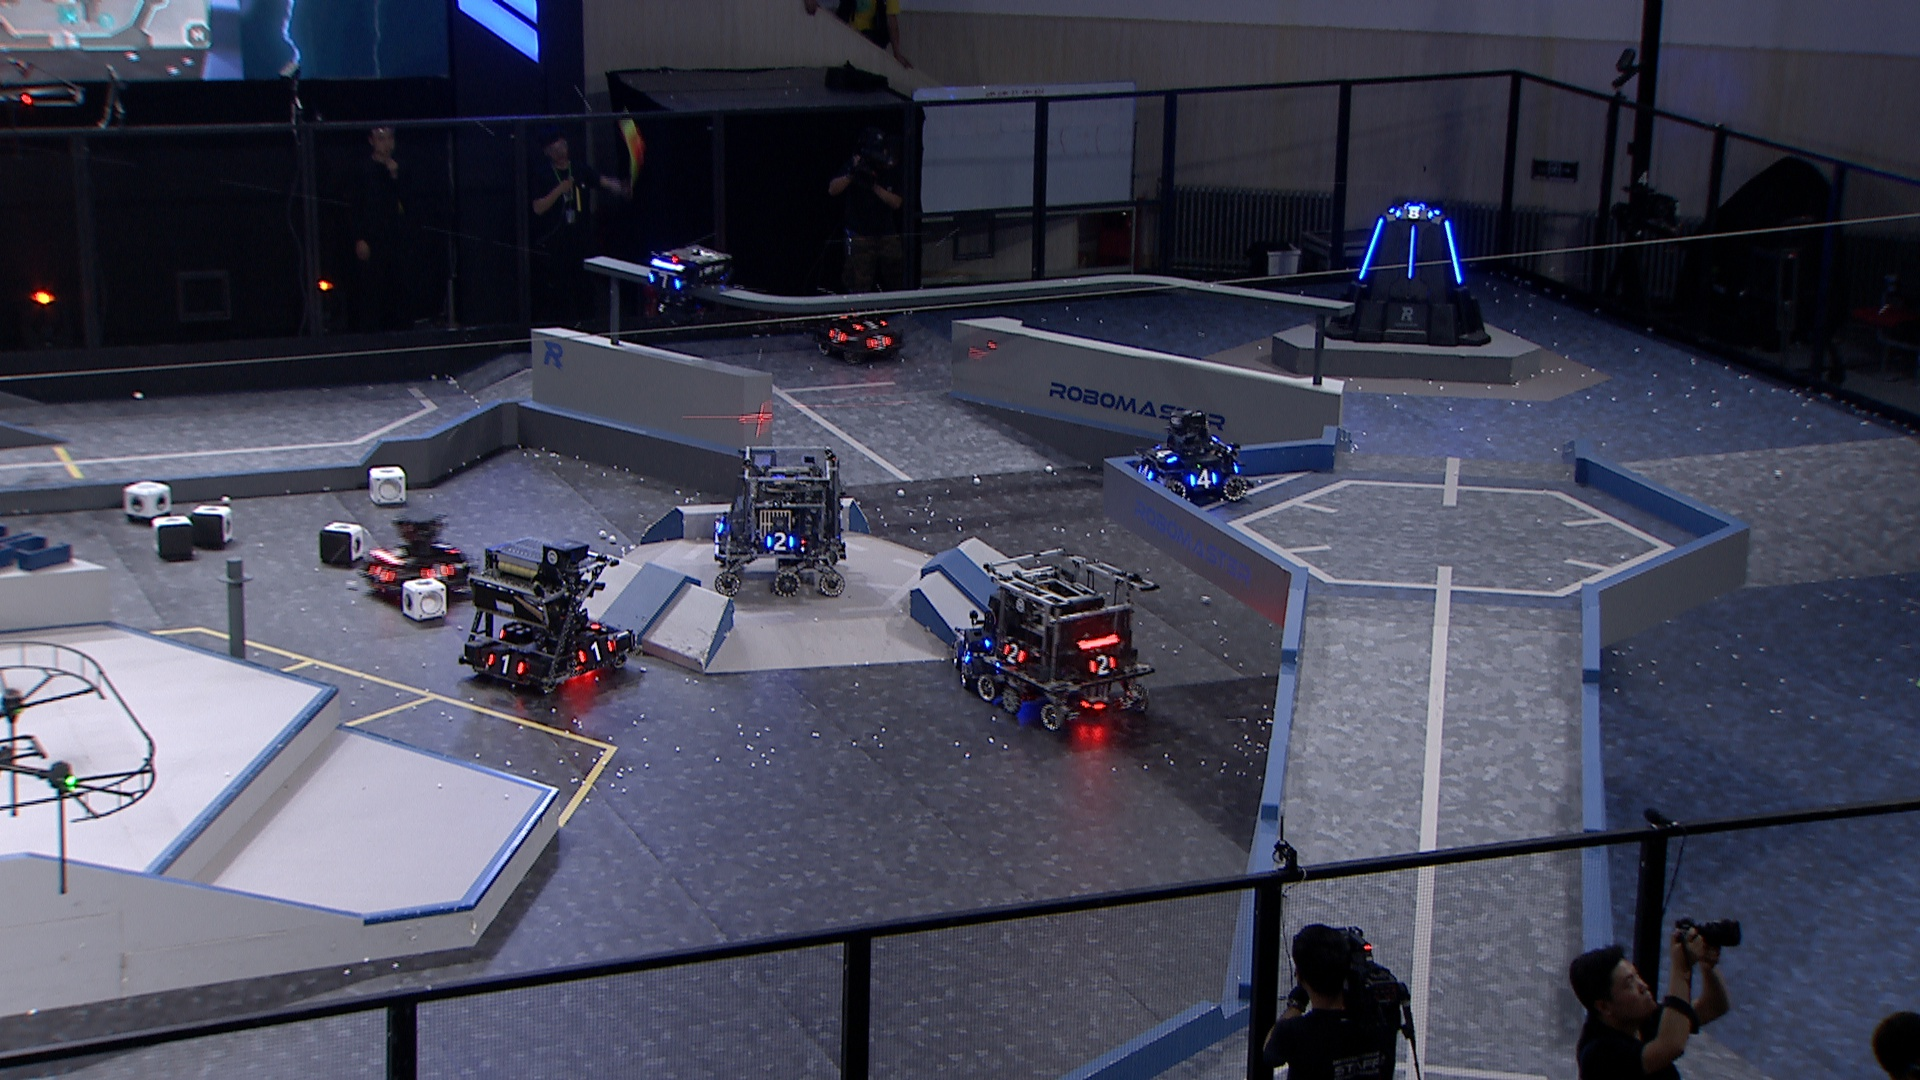armor: (1353, 214, 1390, 282), (1441, 219, 1462, 286), (576, 636, 615, 662), (487, 651, 527, 675), (1185, 465, 1218, 493), (1087, 650, 1117, 679), (419, 559, 455, 583), (650, 266, 683, 291), (1404, 224, 1419, 278), (1002, 640, 1027, 669), (367, 560, 396, 585), (764, 531, 798, 553), (849, 315, 887, 334), (1393, 206, 1433, 223), (1153, 440, 1178, 465), (429, 538, 462, 556), (864, 334, 895, 349), (825, 324, 849, 345), (712, 510, 728, 535), (1134, 463, 1156, 480)
base: (1320, 200, 1495, 348)
car: (982, 543, 1153, 735), (462, 531, 641, 694), (707, 442, 851, 605), (357, 505, 480, 607), (951, 591, 1059, 702), (1129, 410, 1257, 504), (812, 294, 911, 367)
watcher: (644, 240, 735, 335)
